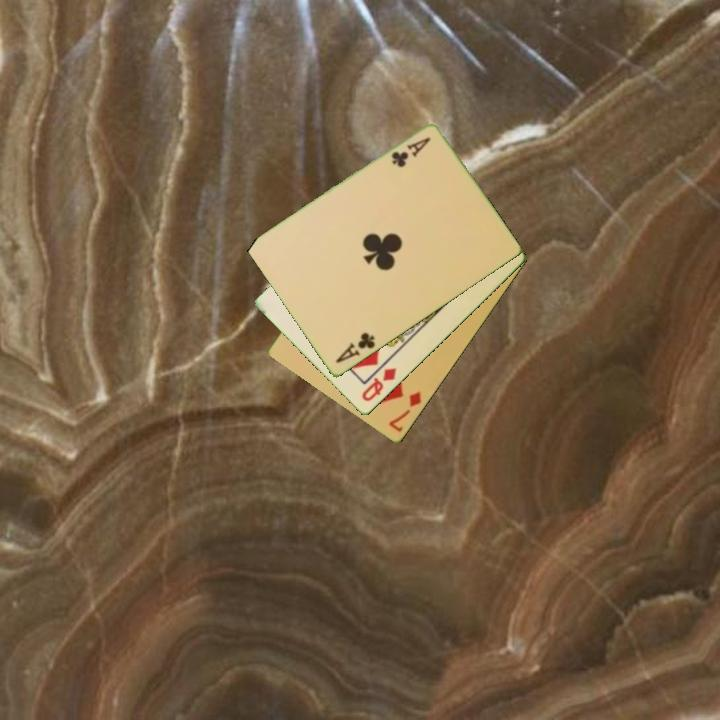7d: (385, 388, 424, 435)
Ac: (332, 329, 378, 366), (388, 134, 433, 171)
Qd: (358, 364, 400, 405)
